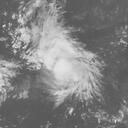cyclone: (40, 40, 105, 107)
